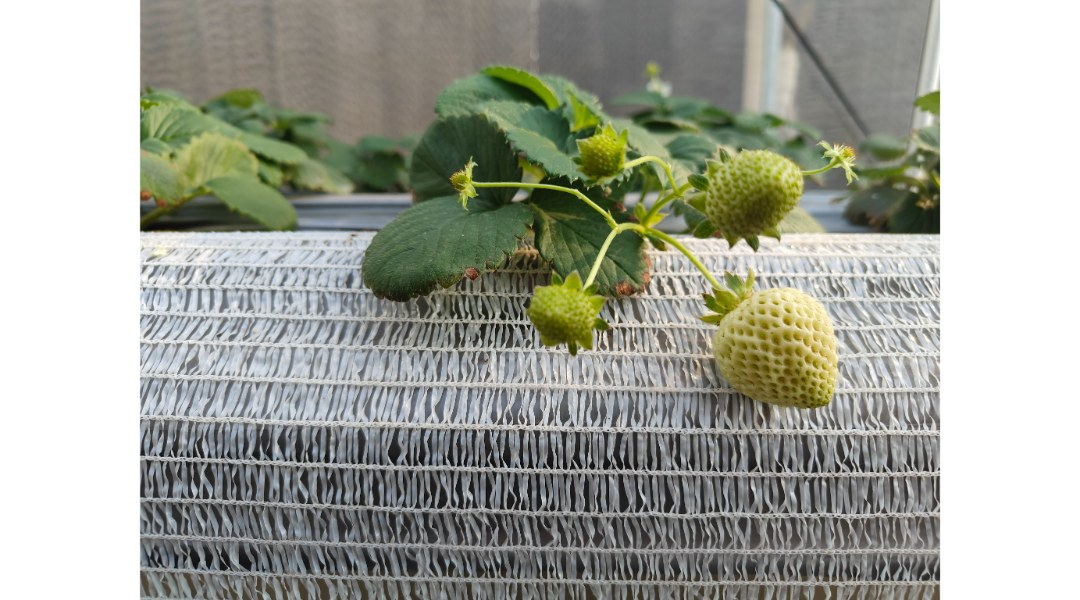berry: (708, 276, 848, 414), (688, 144, 798, 256), (525, 271, 612, 363), (576, 114, 636, 188), (443, 149, 480, 216)
flower: (817, 141, 857, 187)
strain: (467, 174, 617, 220), (650, 229, 728, 295), (577, 230, 624, 285), (623, 150, 680, 192)
